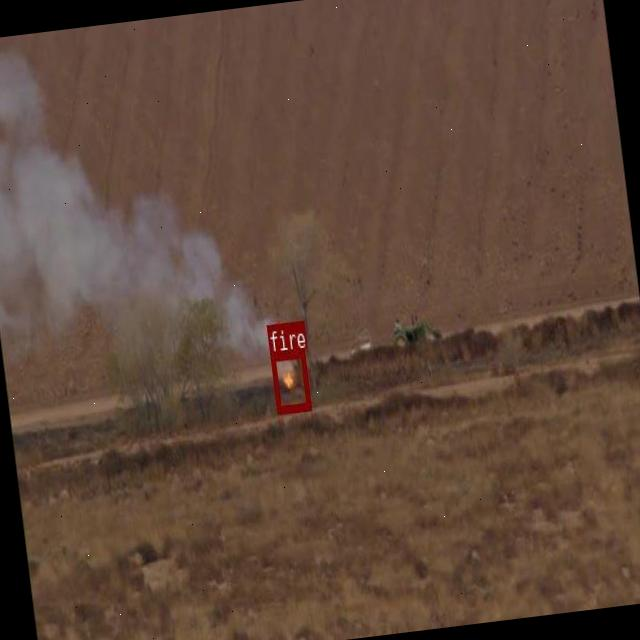fire: (268, 347, 310, 413)
